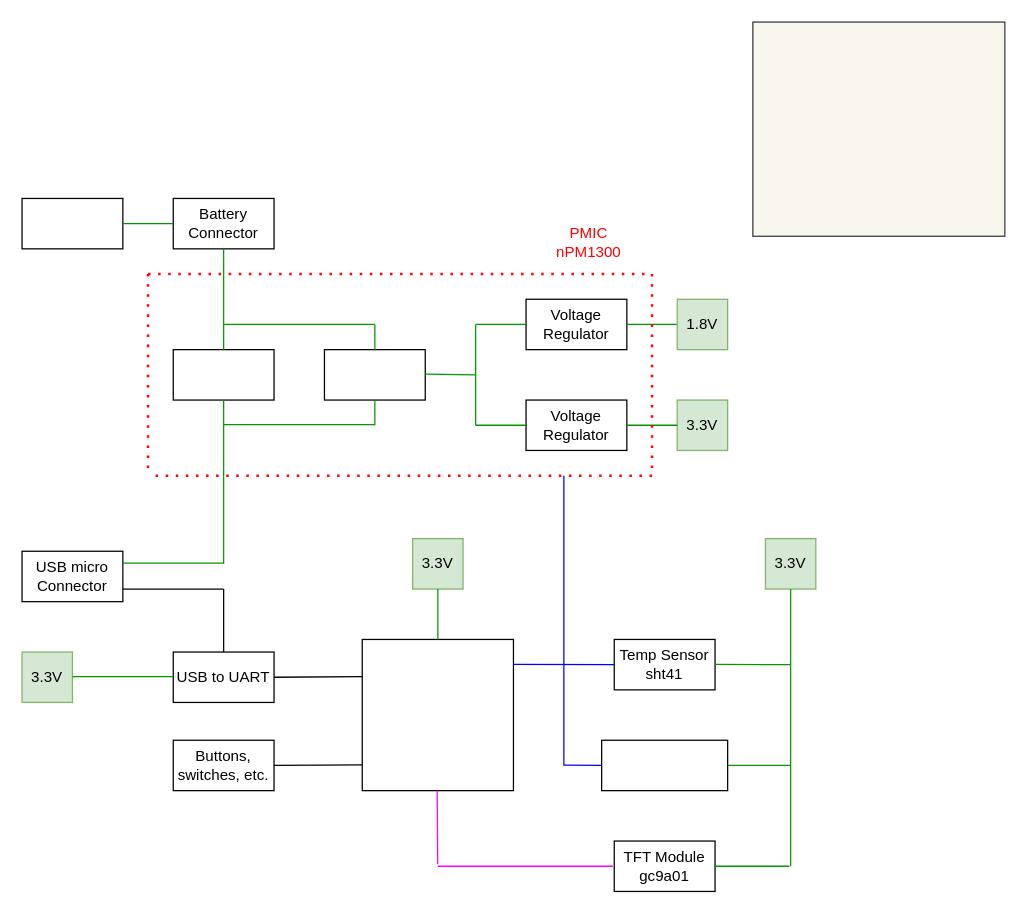
Some shapes in this 1027 by 914 pixel diagram are drawn without their labels. Each missing label, with the centre of its shape:
"Charge Controller" belongs at (x=223, y=374).
"KEY green - power blue - i2c magenta - spi" belongs at (x=878, y=128).
"Li Ion Battery" belongs at (x=72, y=223).
"Magnetometer lis2mdl" belongs at (x=664, y=765).
"MCU STM32L476RG" belongs at (x=437, y=714).
"Multiplexer" belongs at (x=374, y=374).
